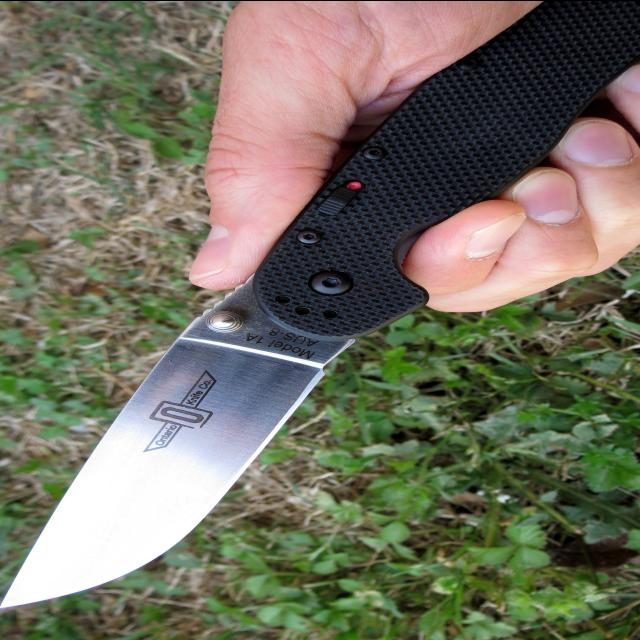Sharp-Object: (0, 168, 501, 640)
